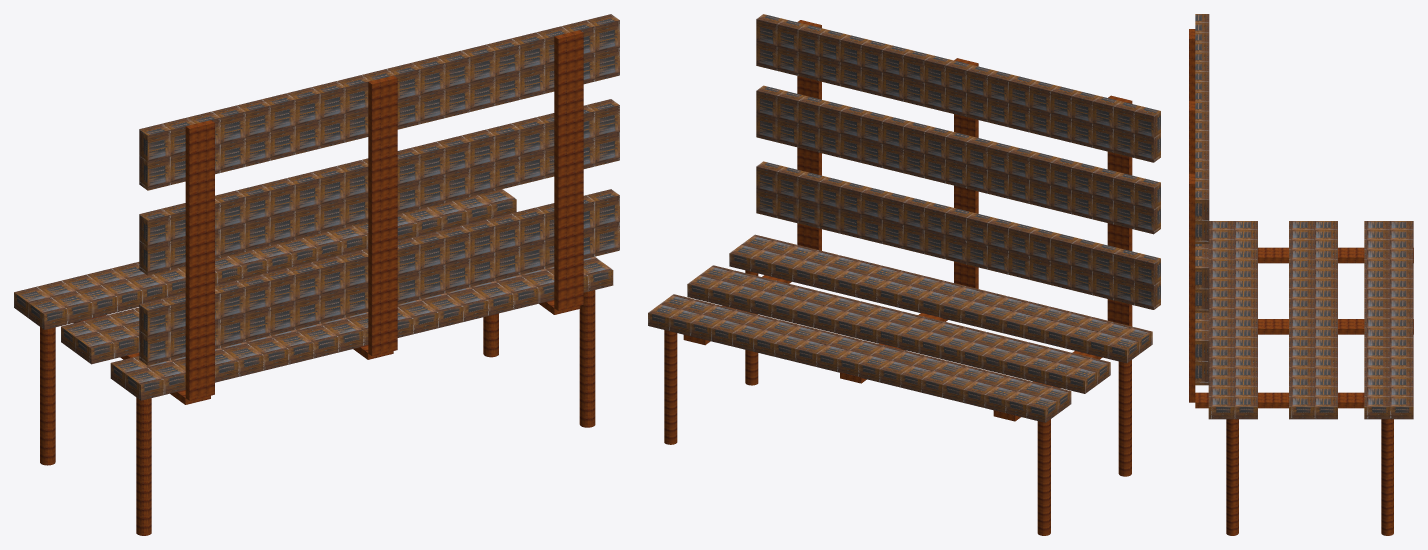
The picture shows the model from 3 angles, left to right: view 1: azimuth 30°, elevation 25°; view 2: azimuth 150°, elevation 25°; view 3: azimuth 270°, elevation 25°; orthographic projection. The views are drawn at different scales.
Visible parts, largest first — view 1: mesh13_mesh13-geometry, mesh15_mesh15-geometry, mesh7_mesh7-geometry, mesh1_mesh1-geometry, mesh4_mesh4-geometry; view 2: mesh13_mesh13-geometry, mesh15_mesh15-geometry, mesh4_mesh4-geometry, mesh1_mesh1-geometry, mesh10_mesh10-geometry; view 3: mesh13_mesh13-geometry, mesh15_mesh15-geometry, mesh10_mesh10-geometry, mesh7_mesh7-geometry.
Part boxes in pixels (x1=…): mesh13_mesh13-geometry: x1=14, y1=14, x2=619, y2=400; mesh15_mesh15-geometry: x1=73, y1=30, x2=583, y2=404; mesh7_mesh7-geometry: x1=579, y1=290, x2=595, y2=427; mesh1_mesh1-geometry: x1=40, y1=327, x2=55, y2=465; mesh4_mesh4-geometry: x1=136, y1=397, x2=151, y2=535; mesh13_mesh13-geometry: x1=648, y1=14, x2=1160, y2=422; mesh15_mesh15-geometry: x1=683, y1=20, x2=1132, y2=421; mesh4_mesh4-geometry: x1=1118, y1=360, x2=1131, y2=476; mesh1_mesh1-geometry: x1=1037, y1=419, x2=1050, y2=535; mesh10_mesh10-geometry: x1=664, y1=330, x2=677, y2=444; mesh13_mesh13-geometry: x1=1195, y1=14, x2=1413, y2=419; mesh15_mesh15-geometry: x1=1189, y1=29, x2=1413, y2=408; mesh10_mesh10-geometry: x1=1381, y1=419, x2=1393, y2=535; mesh7_mesh7-geometry: x1=1226, y1=419, x2=1238, y2=535.
Bounding box in the file's own units: 0.7118 × 0.6012 × 0.3631.
